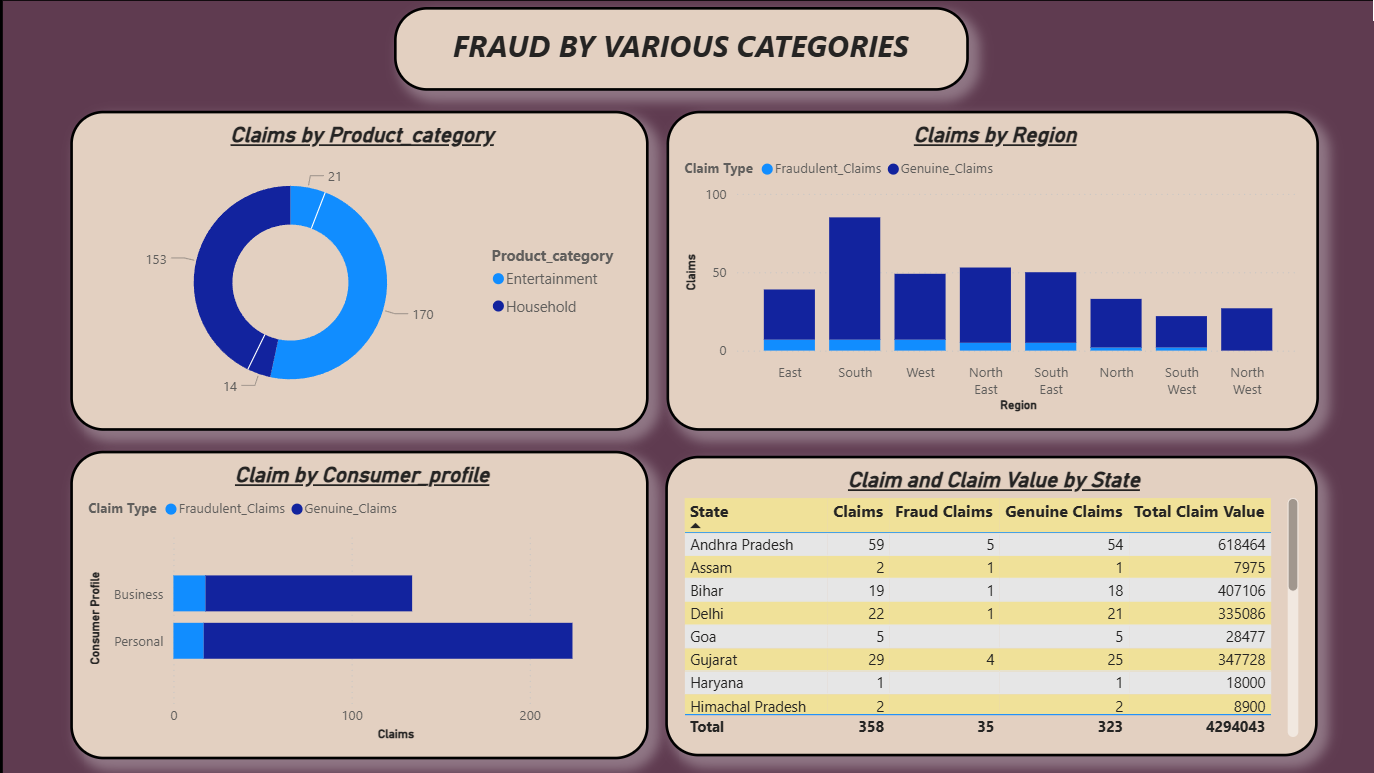

What the dashboard file says about the page in this screenshot:
{"tool":"powerbi","page":{"name":"Fraud by Region and Consumer Profile","canvas":[1280,720],"ordinal":1},"visuals":[{"type":"columnChart","title":"Claims by Region","fields":{"Category":["warranty claims.Region"],"Y":["warranty claims.Fraudulent_Claims","warranty claims.Genuine_Claims"]},"box":[609.9,108.2,591.7,290.6],"z":0},{"type":"barChart","title":"Claim by Consumer_profile","fields":{"Category":["warranty claims.Consumer_profile"],"Y":["warranty claims.Fraudulent_Claims","warranty claims.Genuine_Claims"]},"box":[68.7,416.7,524.9,280.3],"z":1000},{"type":"tableEx","title":"Claim and Claim Value by State","fields":{"Values":["warranty claims.State","warranty claims.Claims","warranty claims.Fraud Claims","warranty claims.Genuine Claims","warranty claims.Total Claim Value"]},"box":[609.2,420.9,591.7,272.8],"z":2000},{"type":"donutChart","title":"Claims by Product_category","fields":{"Category":["warranty claims.Product_category"],"Y":["warranty claims.Fraudulent_Claims","warranty claims.Genuine_Claims"]},"box":[68.7,108.2,524.9,290.6],"z":3000},{"type":"textbox","box":[363.3,13.3,522,75.6],"z":3001}]}

Visuals, with their boxes in screenshot pixels (x1, y1, x2, y2), scaled from the page's 1280x720 canvas onto the 1374x773 screenshot:
"Claims by Region" columnChart: Rect(655, 116, 1290, 428)
"Claim by Consumer_profile" barChart: Rect(74, 447, 637, 748)
"Claim and Claim Value by State" tableEx: Rect(654, 452, 1289, 745)
"Claims by Product_category" donutChart: Rect(74, 116, 637, 428)
textbox: Rect(390, 14, 950, 95)
